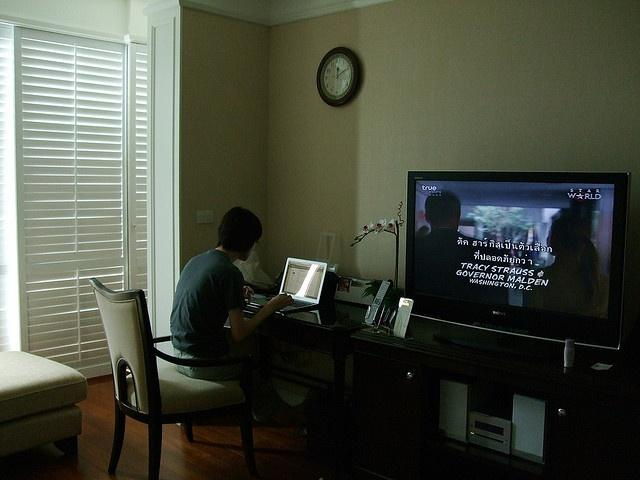AIO PC-Monitor-TV: (402, 168, 632, 359)
Kursi: (85, 277, 257, 479)
